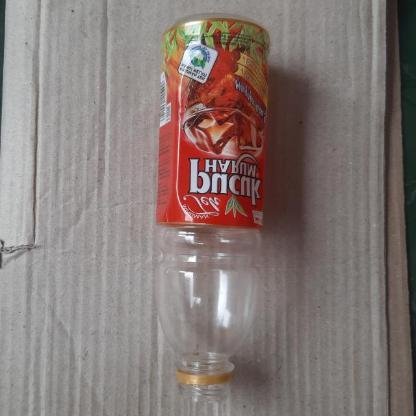Plastic Bottle: (154, 13, 270, 402)
